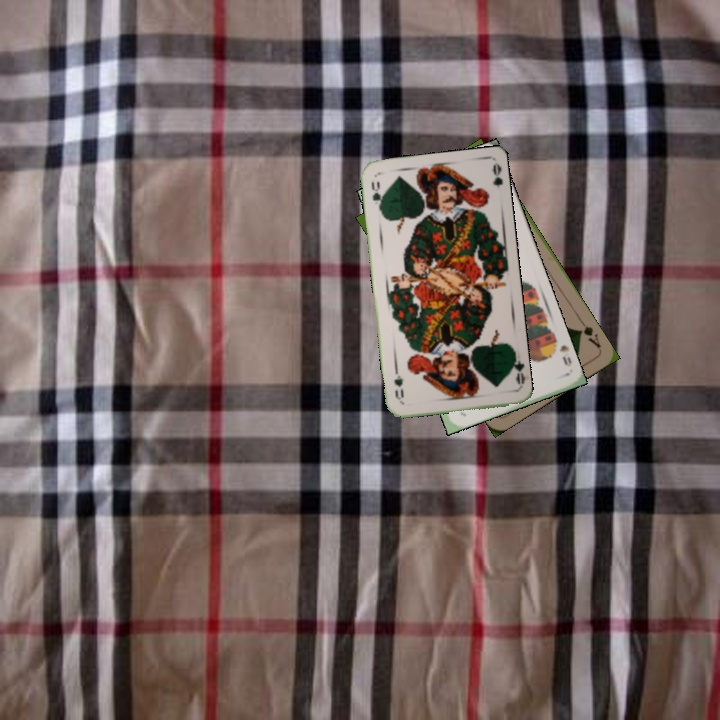GA: (574, 316, 604, 351)
GO: (506, 349, 527, 389), (367, 177, 385, 214)
S9: (547, 334, 574, 369)
